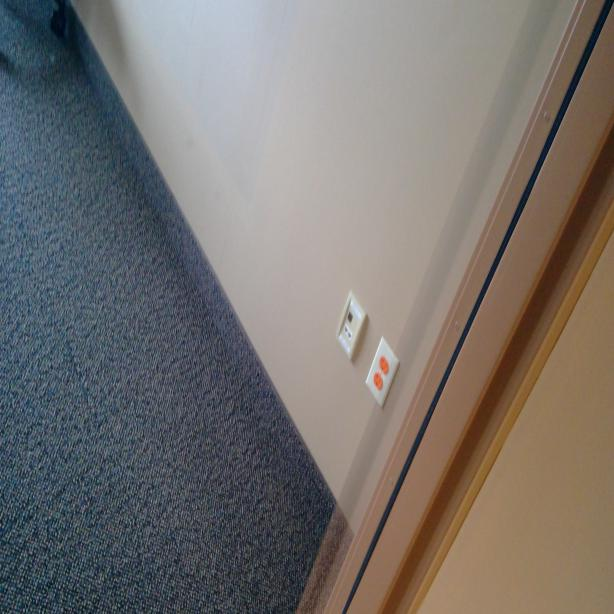typeb: (379, 350, 389, 373), (374, 373, 384, 395)
